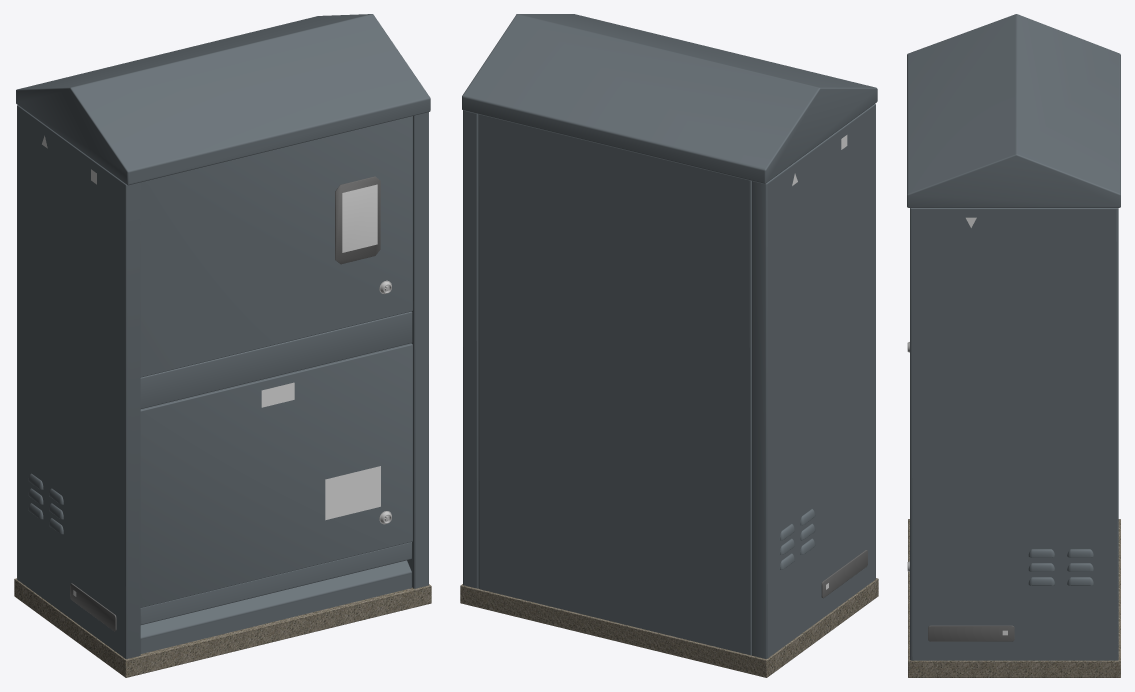
3 views of the same model, side by side, from view 1: azimuth 30°, elevation 25°; view 2: azimuth 150°, elevation 25°; view 3: azimuth 270°, elevation 25° (orthographic). The views are drawn at different scales.
Parts seen in each view (by area): view 1: user-service-cabinet; view 2: user-service-cabinet; view 3: user-service-cabinet.
Boxes of the visible parts, bbox=[...] form: user-service-cabinet: bbox=[14, 14, 431, 677]; user-service-cabinet: bbox=[460, 14, 878, 677]; user-service-cabinet: bbox=[907, 14, 1120, 677].
Size of the model in its own units: 0.5887 by 1 by 0.3709.
9 materials, 1 textured.
